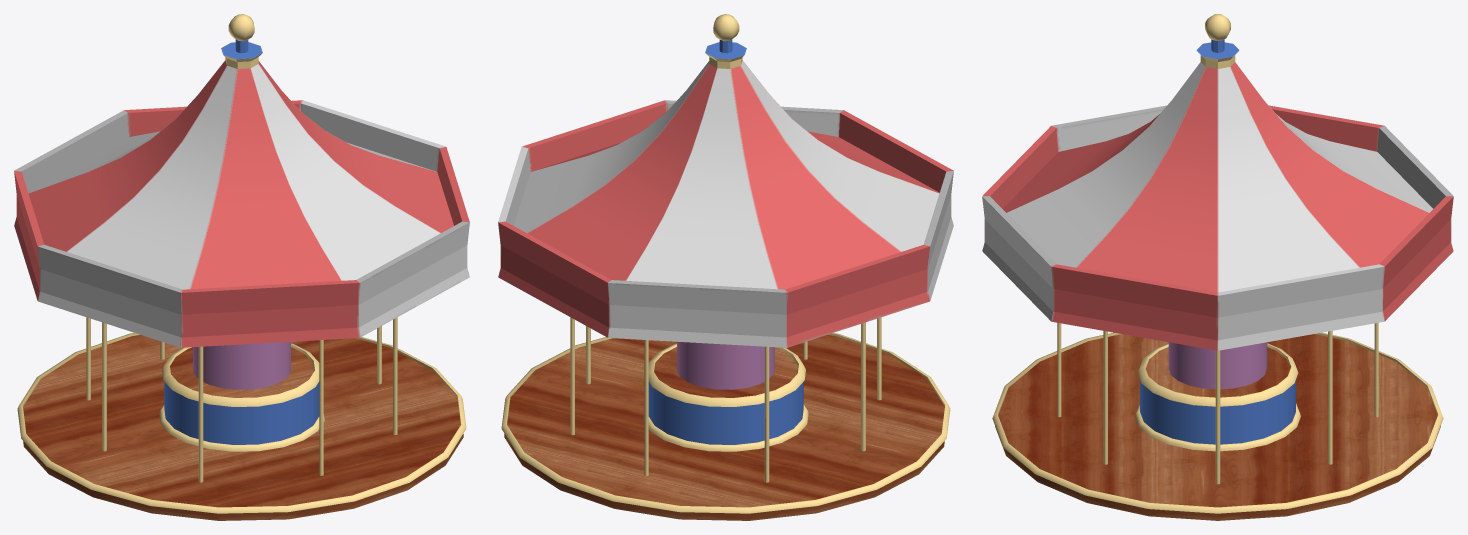
The model's file is top.obj.
3 renders of one model, left to right at view 1: azimuth 30°, elevation 25°; view 2: azimuth 150°, elevation 25°; view 3: azimuth 270°, elevation 25°, orthographic.
Parts seen in each view (by area): view 1: Top; view 2: Top; view 3: Top.
Boxes of the visible parts, x1=… form: Top: x1=14, y1=14, x2=469, y2=520; Top: x1=498, y1=14, x2=953, y2=520; Top: x1=982, y1=14, x2=1453, y2=520.
Bounding box in the file's own units: 9.66 × 9.31 × 9.66.
Materials: 1 (1 with a texture image).
